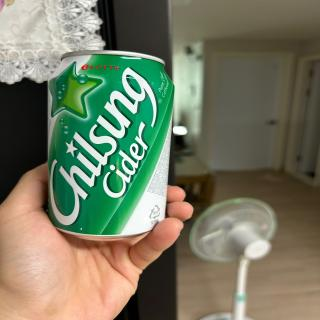cocacola: (48, 50, 178, 244)
